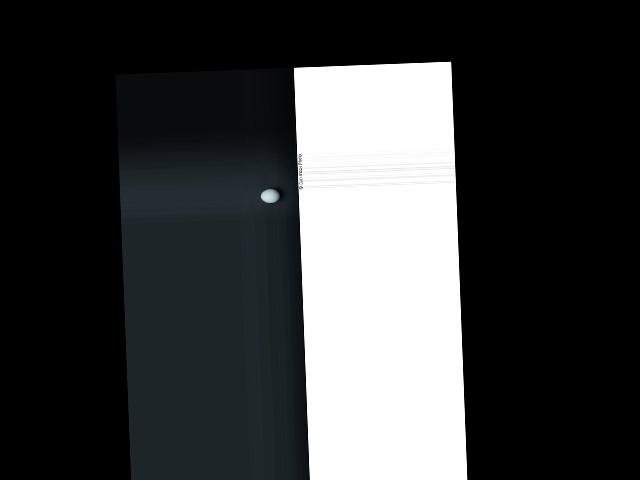egg: (260, 188, 280, 203)
